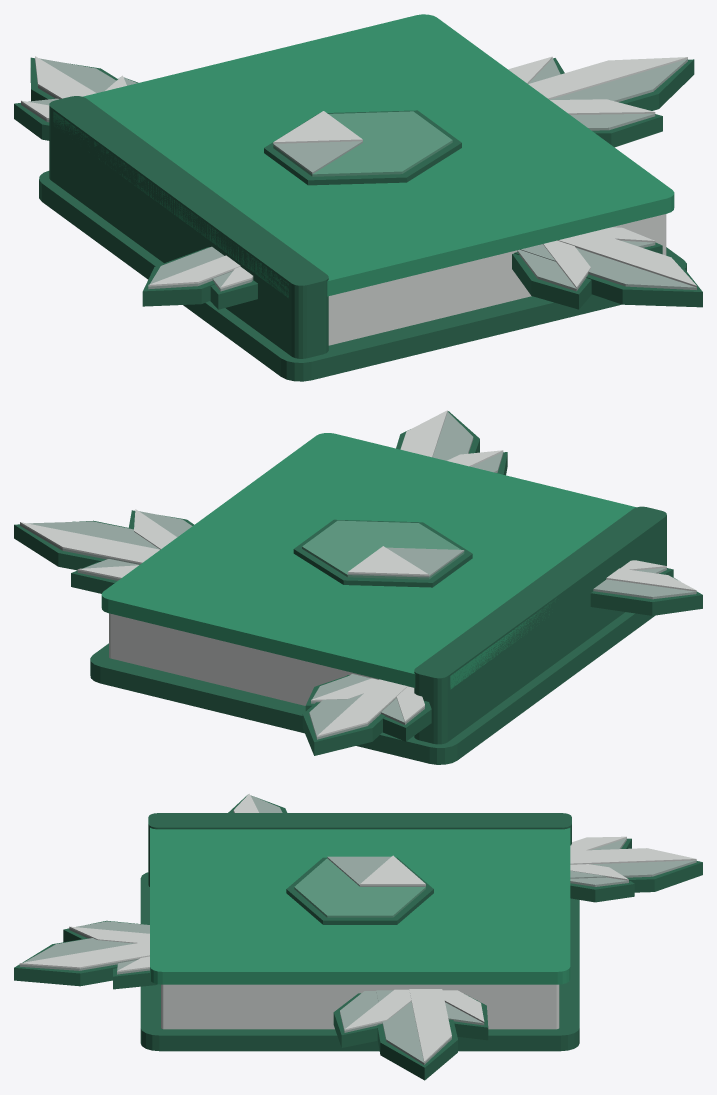
File: book_cristais.fbx
3 views of the same model, one above another, from view 1: azimuth 30°, elevation 25°; view 2: azimuth 150°, elevation 25°; view 3: azimuth 270°, elevation 25° (orthographic). The views are drawn at different scales.
Visible parts, largest first — view 1: book_cristais_livro; view 2: book_cristais_livro; view 3: book_cristais_livro.
Boxes of the visible parts, bbox=[...] form: book_cristais_livro: bbox=[14, 14, 702, 381]; book_cristais_livro: bbox=[14, 410, 702, 764]; book_cristais_livro: bbox=[14, 793, 702, 1080].
Size of the model in its own units: 4.06 by 0.595 by 4.39.
1 material, 1 textured.
